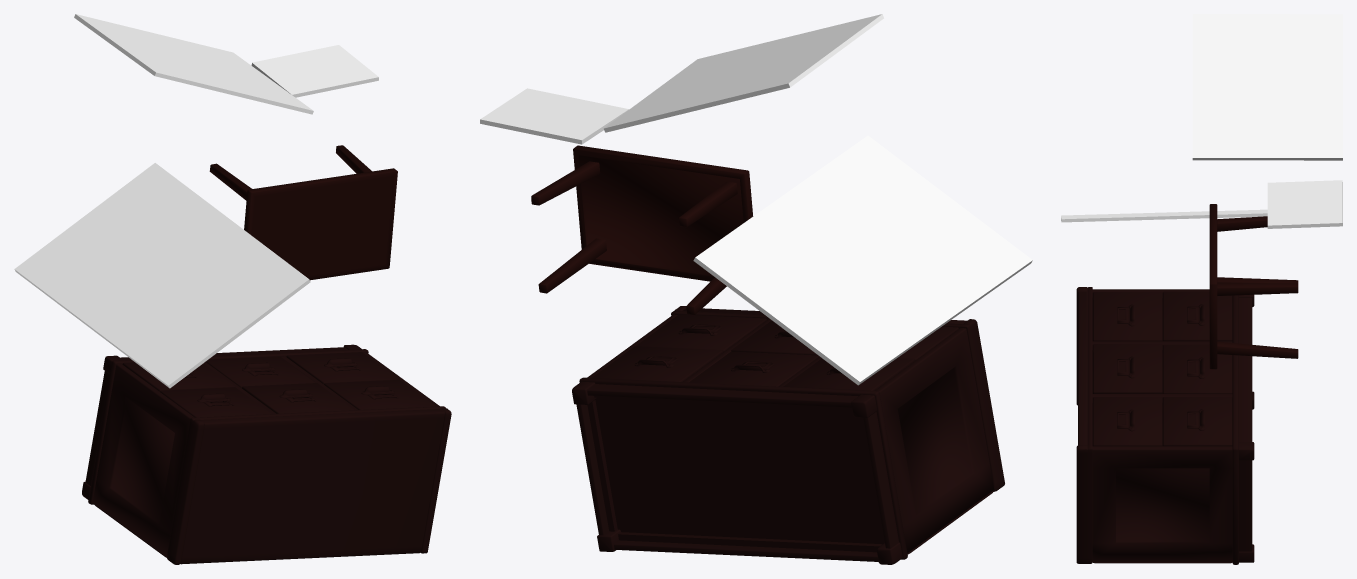
3 views of the same model, side by side, from view 1: azimuth 30°, elevation 25°; view 2: azimuth 150°, elevation 25°; view 3: azimuth 270°, elevation 25° (orthographic). The views are drawn at different scales.
Visible parts, largest first — view 1: diffuse_cabinet_01, glass_door_03, diffuse_table_02, glass_window_02, glass_partition_01; view 2: diffuse_cabinet_01, glass_door_03, diffuse_table_02, glass_window_02, glass_partition_01; view 3: diffuse_cabinet_01, glass_window_02, diffuse_table_02, glass_partition_01, glass_door_03.
Boxes of the visible parts, <box> form: diffuse_cabinet_01: <box>82,344,451,564</box>; glass_door_03: <box>14,163,310,388</box>; diffuse_table_02: <box>209,145,397,280</box>; glass_window_02: <box>74,14,313,114</box>; glass_partition_01: <box>251,45,378,97</box>; diffuse_cabinet_01: <box>572,306,1004,564</box>; glass_door_03: <box>693,135,1032,385</box>; diffuse_table_02: <box>531,145,753,314</box>; glass_window_02: <box>603,14,883,132</box>; glass_partition_01: <box>480,88,628,144</box>; diffuse_cabinet_01: <box>1076,287,1254,564</box>; glass_window_02: <box>1192,14,1342,160</box>; diffuse_table_02: <box>1209,204,1298,369</box>; glass_partition_01: <box>1267,180,1342,228</box>; glass_door_03: <box>1061,209,1267,222</box>.
Size of the model in its own units: 186 by 268 by 150.
